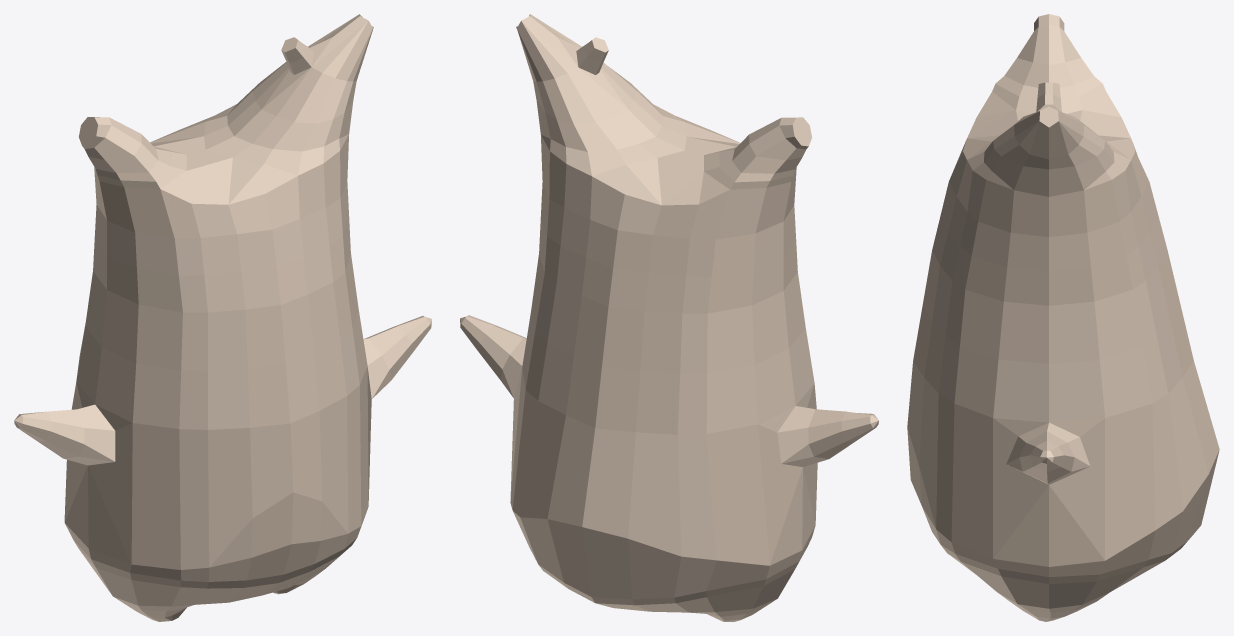
The model's file is frame_0036.obj.
The picture shows the model from 3 angles, left to right: view 1: azimuth 30°, elevation 25°; view 2: azimuth 150°, elevation 25°; view 3: azimuth 270°, elevation 25°; orthographic projection.
Parts seen in each view (by area): view 1: korok; view 2: korok; view 3: korok.
Boxes of the visible parts, <box> form: korok: <box>14,14,431,621</box>; korok: <box>460,14,878,621</box>; korok: <box>907,14,1219,621</box>.
Size of the model in its own units: 1.64 by 2.08 by 1.07.
